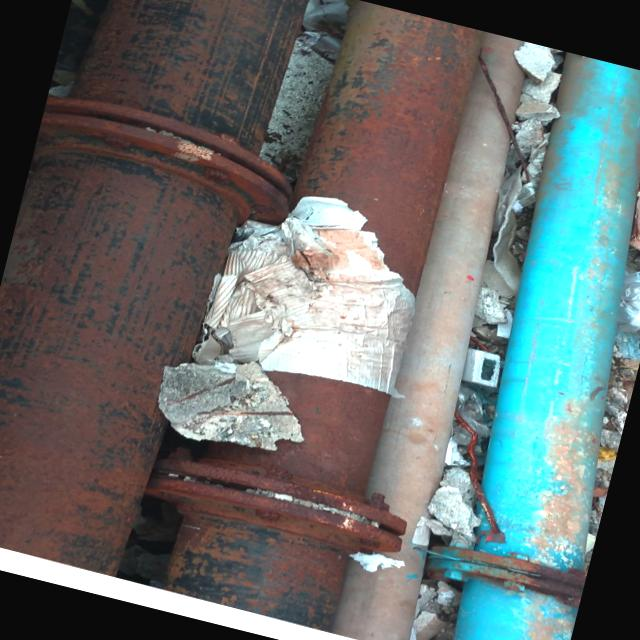gas: (132, 0, 521, 640), (0, 0, 328, 593), (405, 49, 640, 640)
